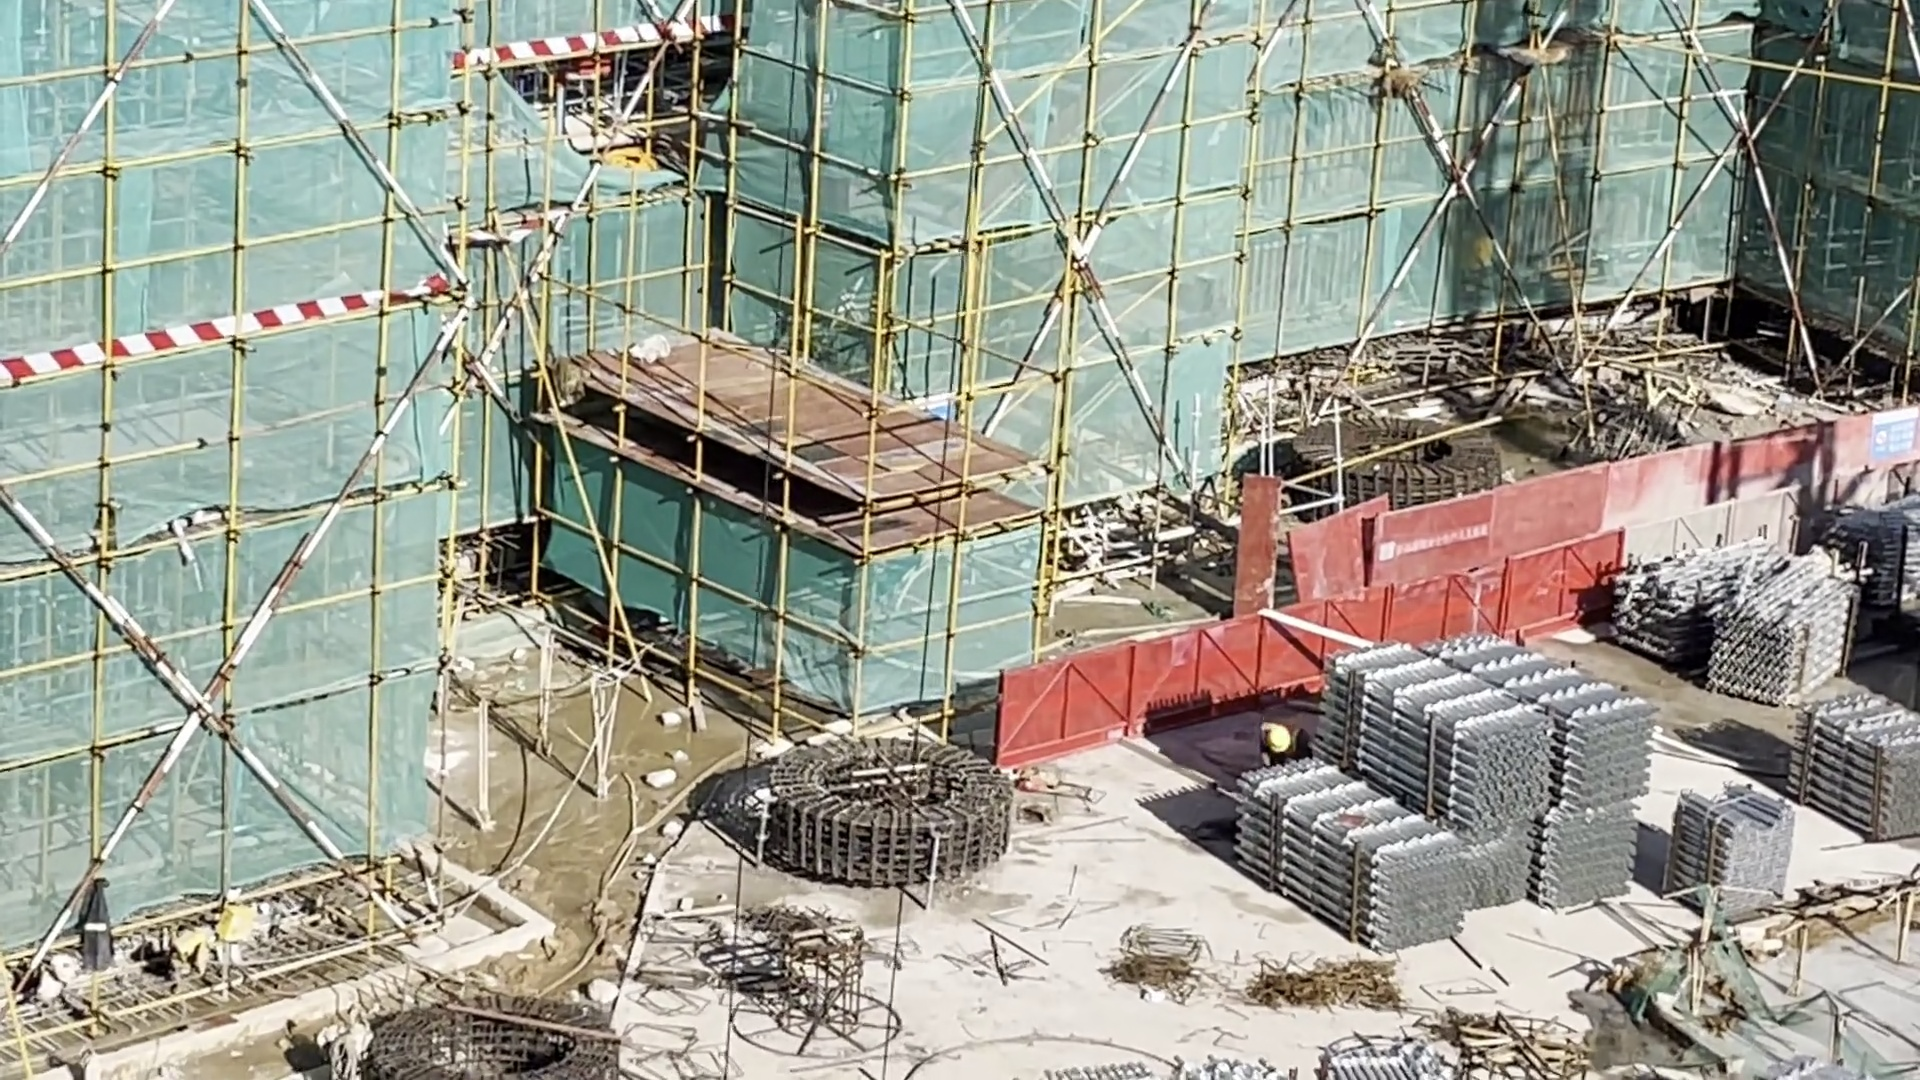fence: (996, 462, 1920, 762)
scaffold: (1229, 625, 1655, 953), (1601, 533, 1870, 708), (1778, 696, 1912, 843), (1672, 775, 1817, 909)
